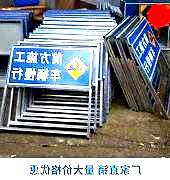sign: (8, 46, 95, 87), (134, 25, 160, 80)
